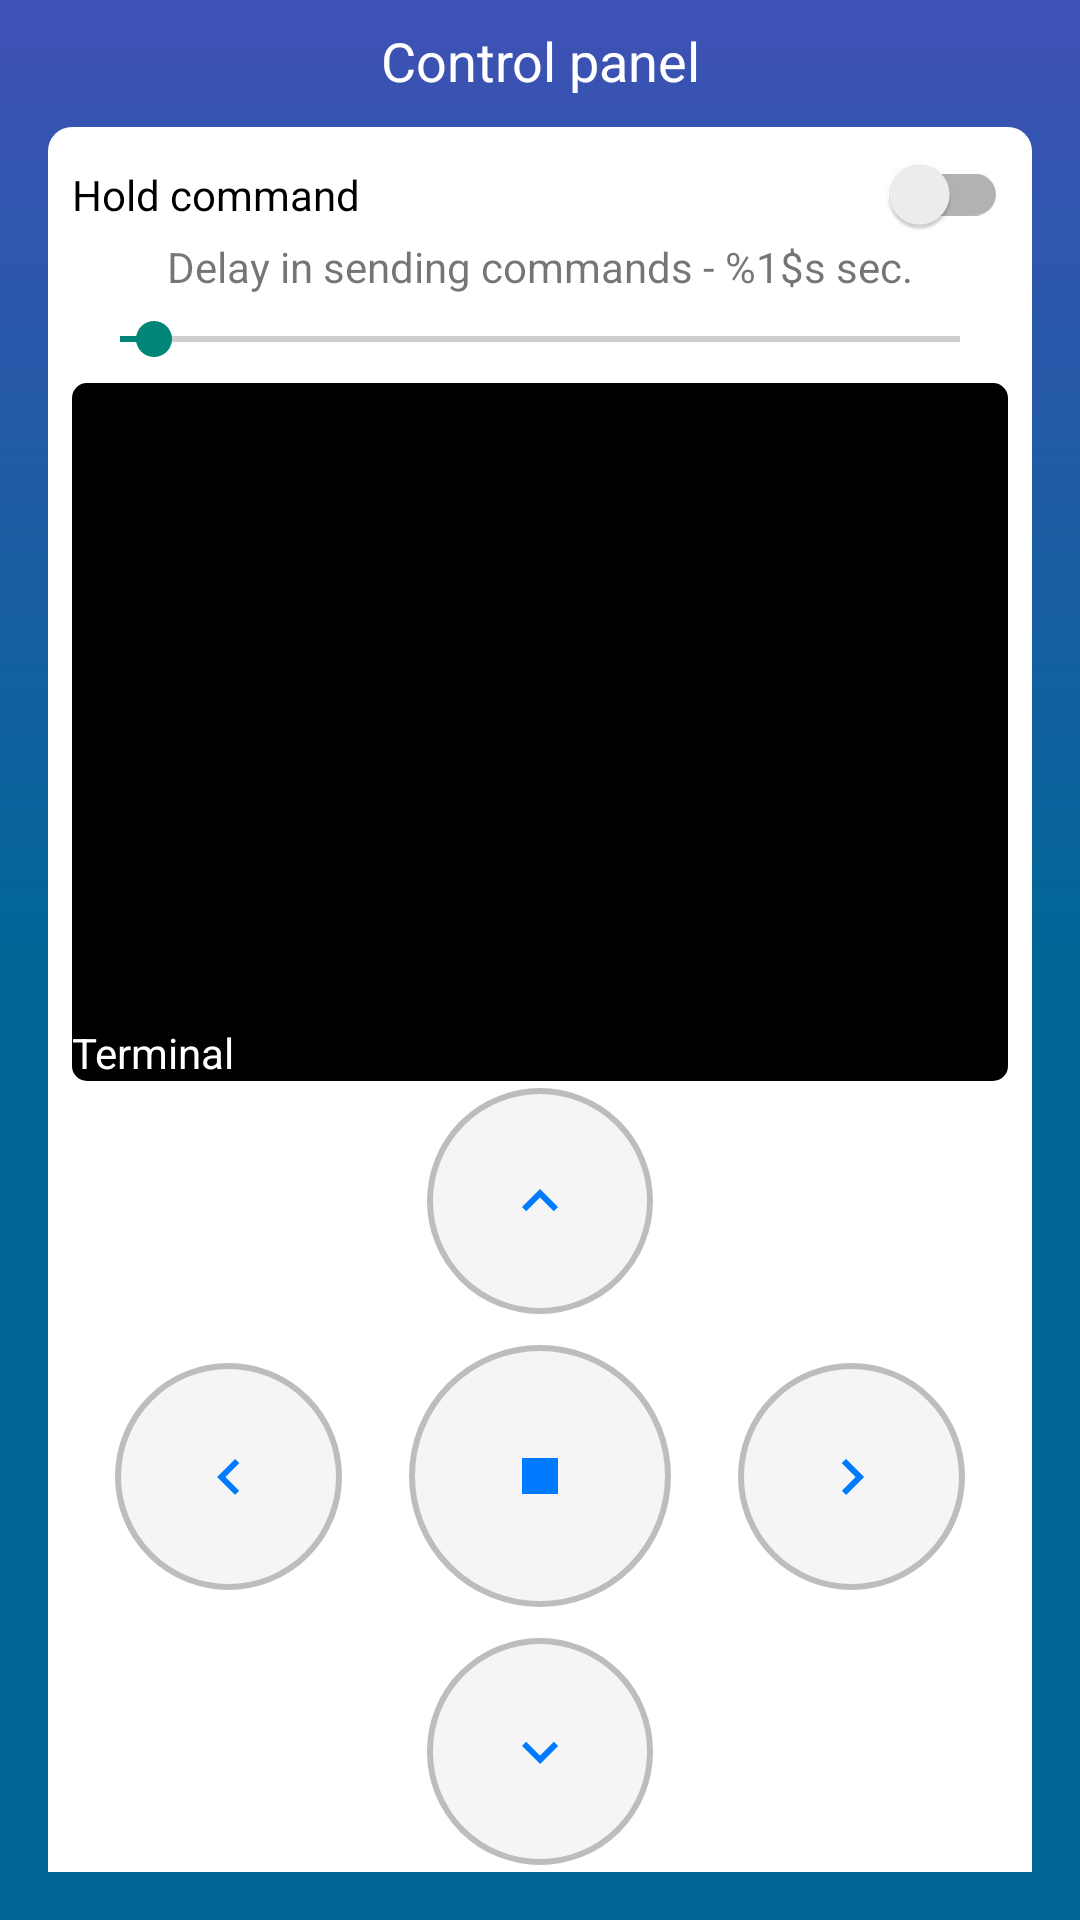

Icon bounding boxes for this 1080px x 1920px phone screenshot, format (x1, y1, x2, y2):
keyboard arrow down: (427, 1638, 653, 1865)
keyboard arrow left: (115, 1363, 342, 1590)
keyboard arrow right: (738, 1363, 965, 1590)
keyboard arrow up: (427, 1088, 653, 1314)
stop: (409, 1345, 671, 1607)
